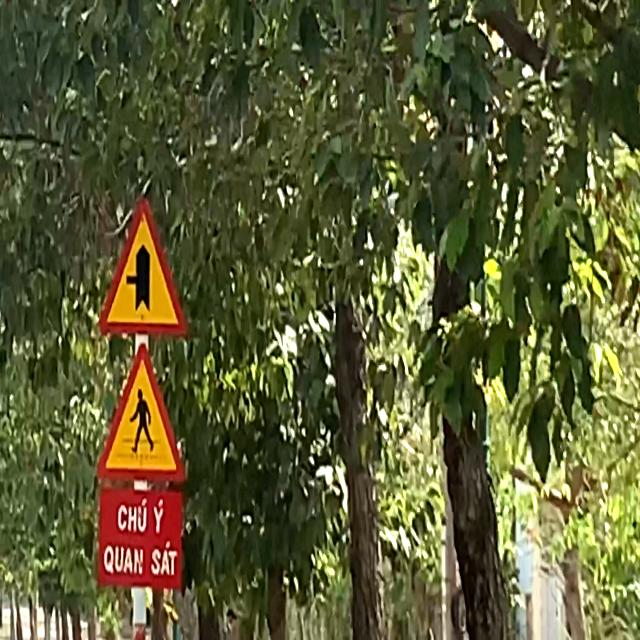W.205a: (98, 194, 190, 338)
W.224: (96, 342, 186, 486)
